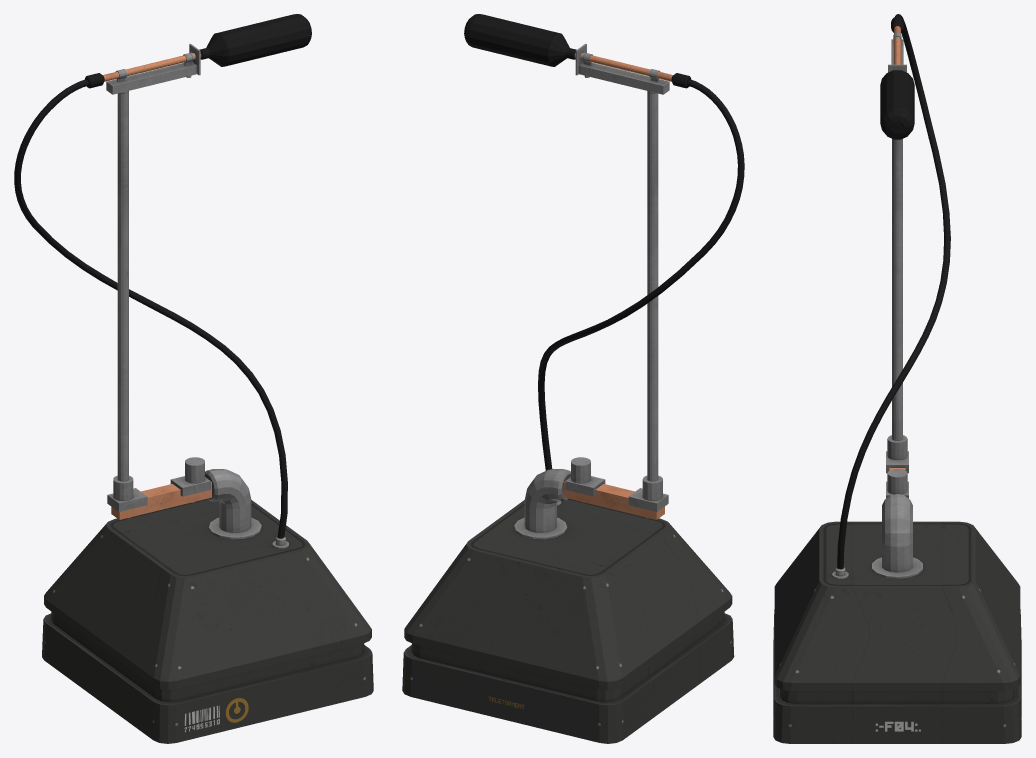
Rendered from Microphone.glb.
3 renders of one model, left to right at view 1: azimuth 30°, elevation 25°; view 2: azimuth 150°, elevation 25°; view 3: azimuth 270°, elevation 25°, orthographic.
Parts seen in each view (by area): view 1: huitugou_7010_02; view 2: huitugou_7010_02; view 3: huitugou_7010_02.
Part boxes in pixels (x1,y1,x2,y2): huitugou_7010_02: [14, 14, 373, 743]; huitugou_7010_02: [402, 14, 744, 743]; huitugou_7010_02: [773, 14, 1021, 743].
Size of the model in its own units: 0.2819 by 0.5853 by 0.2101.
1 material, 1 textured.
